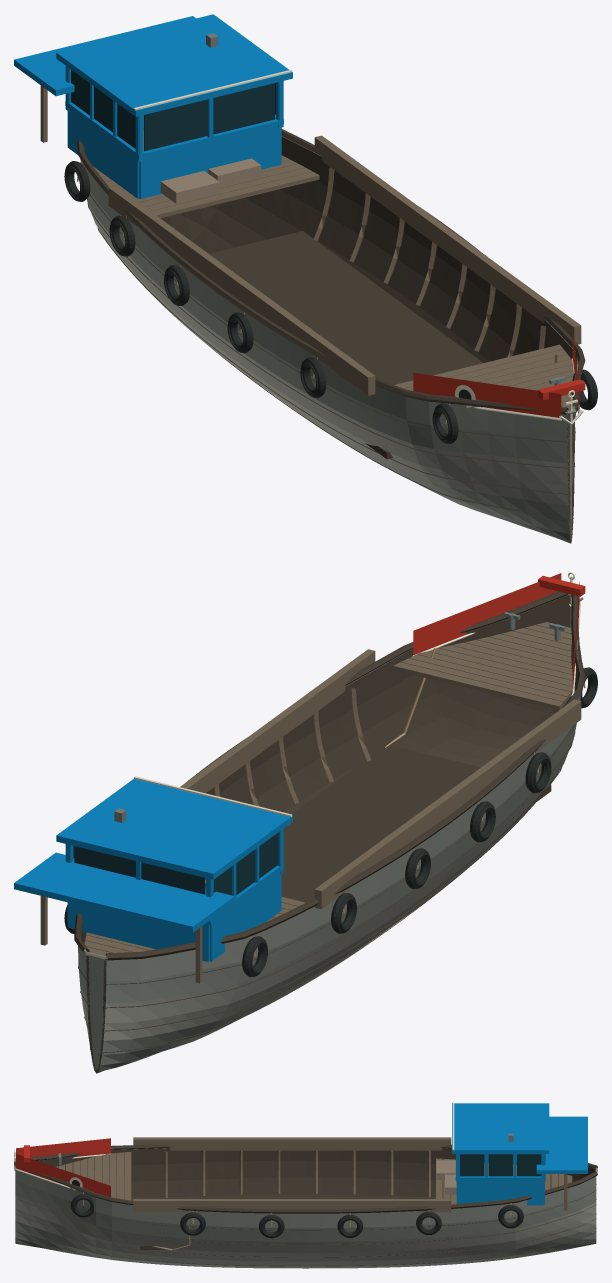
File: open-cargo-boat.glb
3 views of the same model, one above another, from view 1: azimuth 30°, elevation 25°; view 2: azimuth 150°, elevation 25°; view 3: azimuth 270°, elevation 25° (orthographic). The views are drawn at different scales.
Parts seen in each view (by area): view 1: hull_inner__wood_dark, hull_planks__hull_grey, hold_floor__wood_dark, wheelhouse_roof__blue, hold_coaming__wood, hull_planks__hull_light, wheelhouse_walls__blue, deck_boards__wood, wheelhouse_glazing__glass, gunwale__wood_dark, tire_fenders__rubber, wheelhouse_frames__blue (+6 smaller); view 2: hull_inner__wood_dark, hull_planks__hull_grey, hold_floor__wood_dark, wheelhouse_roof__blue, hull_planks__hull_light, hold_coaming__wood, deck_boards__wood, stern_canopy__blue, gunwale__wood_dark, wheelhouse_walls__blue, wheelhouse_glazing__glass, tire_fenders__rubber (+8 smaller); view 3: hull_planks__hull_grey, hull_inner__wood_dark, hull_planks__hull_light, hold_coaming__wood, wheelhouse_roof__blue, gunwale__wood_dark, plank_seams__wood_dark, deck_boards__wood, stern_canopy__blue, painted_bow__red, wheelhouse_walls__blue, tire_fenders__rubber (+7 smaller).
Part boxes in pixels (x1,y1,x2,y2): hull_inner__wood_dark: (160, 137, 577, 364); hull_planks__hull_grey: (81, 160, 576, 533); hold_floor__wood_dark: (209, 231, 483, 459); wheelhouse_roof__blue: (56, 14, 292, 116); hold_coaming__wood: (108, 135, 581, 395); hull_planks__hull_light: (88, 204, 568, 505); wheelhouse_walls__blue: (67, 109, 281, 198); deck_boards__wood: (93, 130, 573, 410); wheelhouse_glazing__glass: (71, 69, 275, 151); gunwale__wood_dark: (77, 129, 585, 414); tire_fenders__rubber: (65, 161, 597, 443); wheelhouse_frames__blue: (65, 66, 283, 162); hull_inner__wood_dark: (81, 595, 577, 943); hull_planks__hull_grey: (78, 694, 580, 1065); hold_floor__wood_dark: (281, 746, 551, 902); wheelhouse_roof__blue: (56, 779, 292, 879); hull_planks__hull_light: (80, 743, 571, 1040); hold_coaming__wood: (180, 649, 581, 909); deck_boards__wood: (84, 622, 574, 955); stern_canopy__blue: (14, 852, 234, 932); gunwale__wood_dark: (74, 591, 585, 960); wheelhouse_walls__blue: (67, 872, 281, 961); wheelhouse_glazing__glass: (73, 832, 278, 895); tire_fenders__rubber: (64, 645, 597, 977); hull_planks__hull_grey: (15, 1165, 596, 1268); hull_inner__wood_dark: (37, 1148, 595, 1200); hull_planks__hull_light: (15, 1195, 596, 1261); hold_coaming__wood: (133, 1137, 451, 1212); wheelhouse_roof__blue: (452, 1103, 549, 1153); gunwale__wood_dark: (14, 1144, 597, 1213); plank_seams__wood_dark: (15, 1182, 596, 1266); deck_boards__wood: (56, 1152, 572, 1204); stern_canopy__blue: (536, 1116, 587, 1173); painted_bow__red: (16, 1138, 110, 1196); wheelhouse_walls__blue: (456, 1154, 544, 1205); tire_fenders__rubber: (70, 1156, 523, 1238).
Size of the model in its own units: 5.22 by 4.54 by 17.08.
